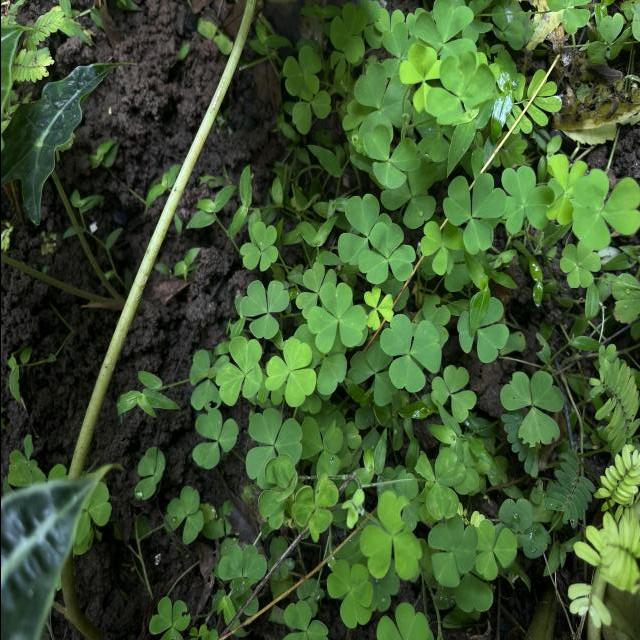Oxalis corniculata: (358, 490, 422, 581), (570, 168, 640, 250), (440, 171, 508, 255), (424, 50, 496, 126), (498, 370, 564, 448), (378, 314, 442, 394), (244, 407, 303, 490), (306, 282, 366, 354), (497, 164, 554, 234), (360, 124, 420, 190), (426, 513, 478, 589), (352, 62, 410, 128), (413, 448, 466, 520), (356, 222, 416, 284), (456, 294, 509, 364), (264, 338, 316, 408), (290, 472, 338, 543), (214, 336, 262, 406), (325, 558, 373, 628), (238, 278, 290, 339), (190, 408, 238, 470), (429, 364, 476, 424), (474, 518, 517, 580), (418, 220, 464, 277), (162, 484, 204, 546), (280, 45, 322, 102), (328, 2, 367, 63), (558, 239, 600, 289), (238, 220, 278, 272), (146, 594, 190, 640), (132, 446, 166, 500), (362, 286, 393, 332)
